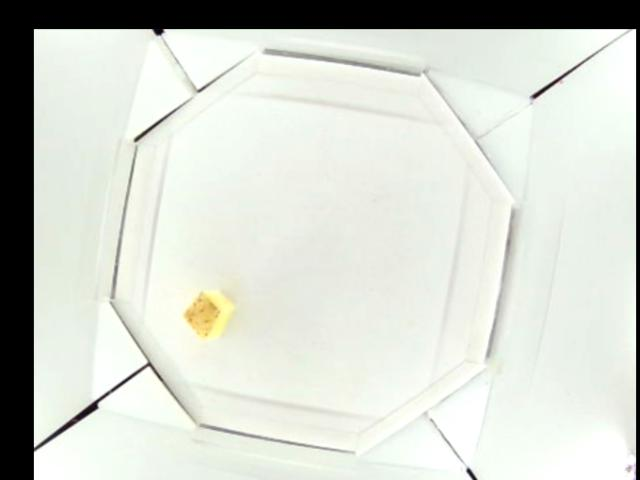Potato: (185, 288, 235, 337)
